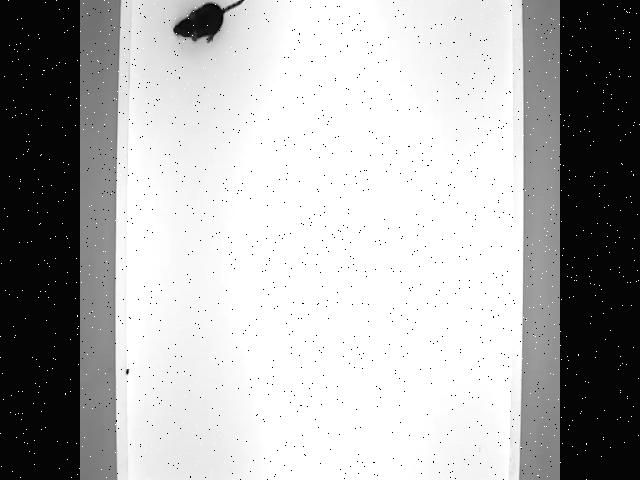Tikus: (166, 0, 264, 42)
